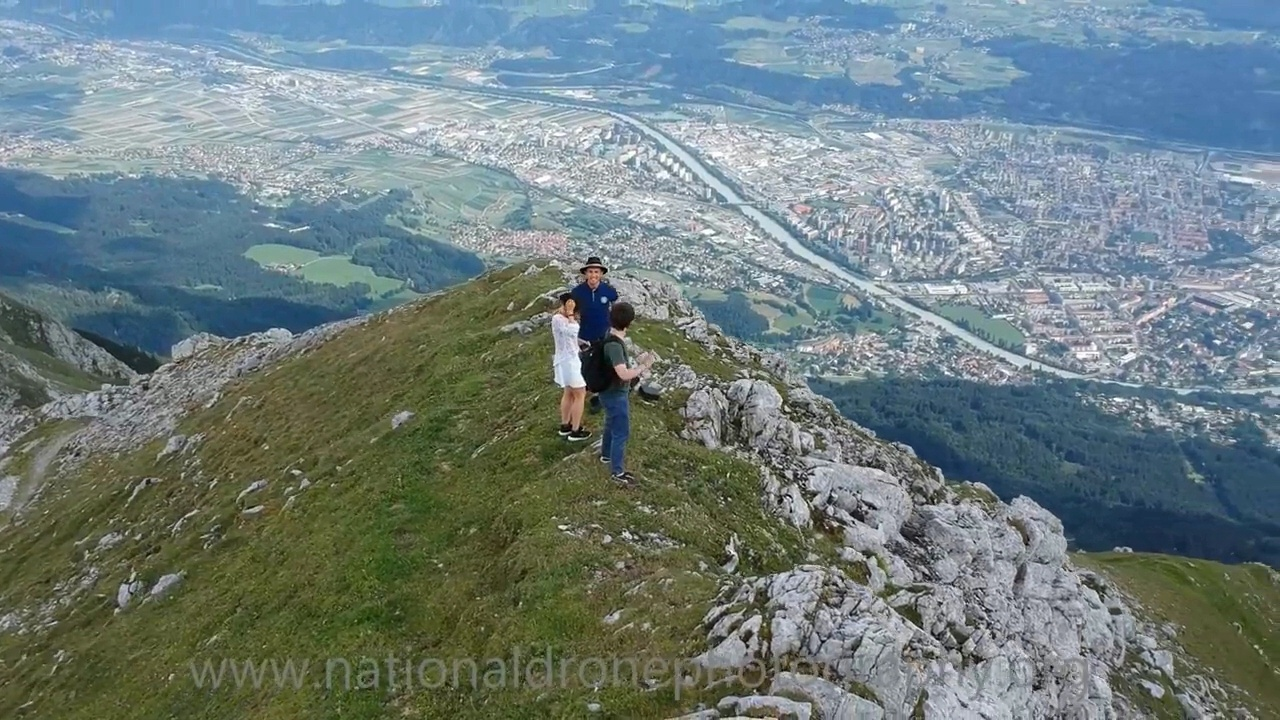insan: (600, 299, 648, 483), (564, 255, 618, 406), (550, 296, 597, 441)
